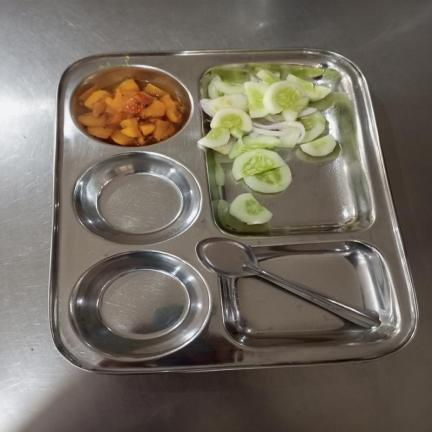Aalu Ki Sabji: (78, 77, 187, 145)
Plate: (48, 49, 418, 373)
Salad: (197, 71, 337, 192), (228, 193, 275, 226)
